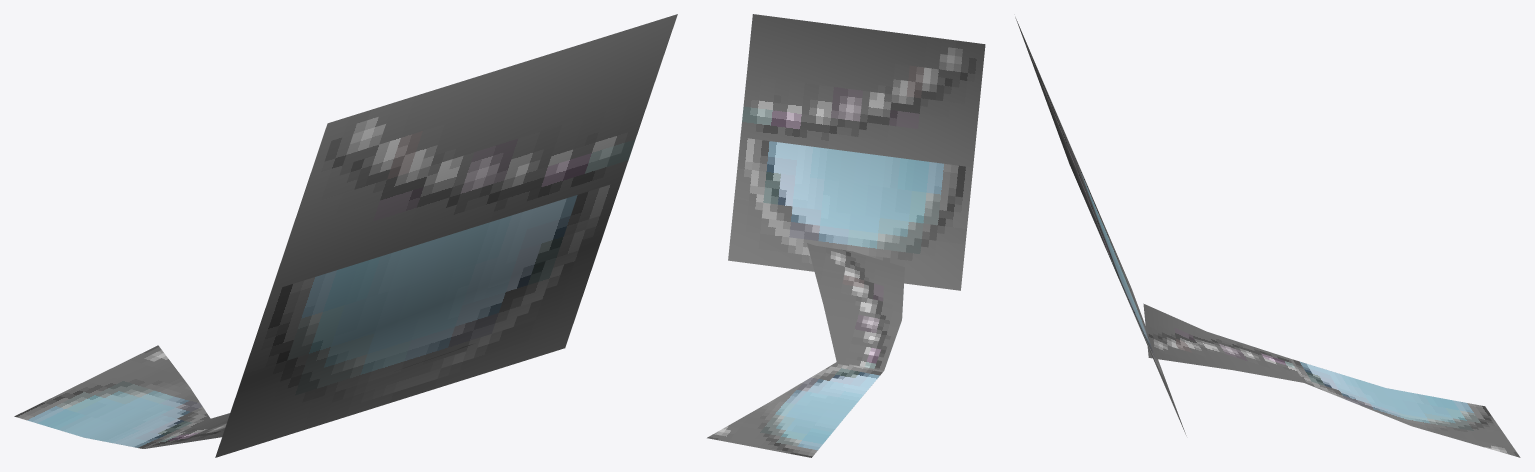
The model's file is acc_monocle.dae.
3 views of the same model, side by side, from view 1: azimuth 30°, elevation 25°; view 2: azimuth 150°, elevation 25°; view 3: azimuth 270°, elevation 25° (orthographic). The views are drawn at different scales.
Parts seen in each view (by area): view 1: acc_monocle; view 2: acc_monocle; view 3: acc_monocle.
Boxes of the visible parts, <box> form: acc_monocle: <box>14,14,677,457</box>; acc_monocle: <box>707,14,985,457</box>; acc_monocle: <box>1015,17,1520,457</box>.
Bounding box in the file's own units: 8.91 × 10.6 × 12.43.
1 material, 1 textured.
